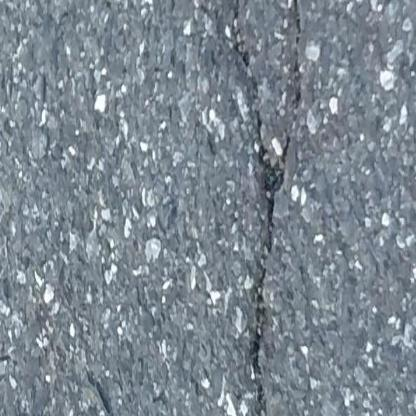Cracks: (237, 0, 297, 416), (288, 0, 300, 68)
